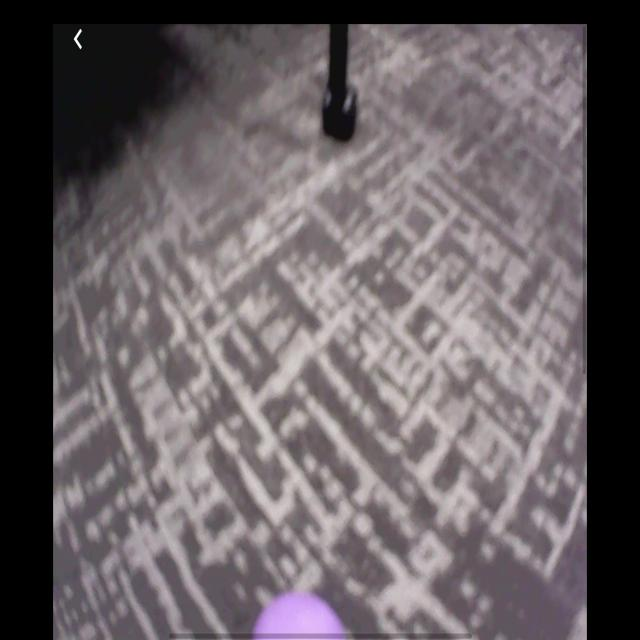ball: (254, 592, 353, 640)
